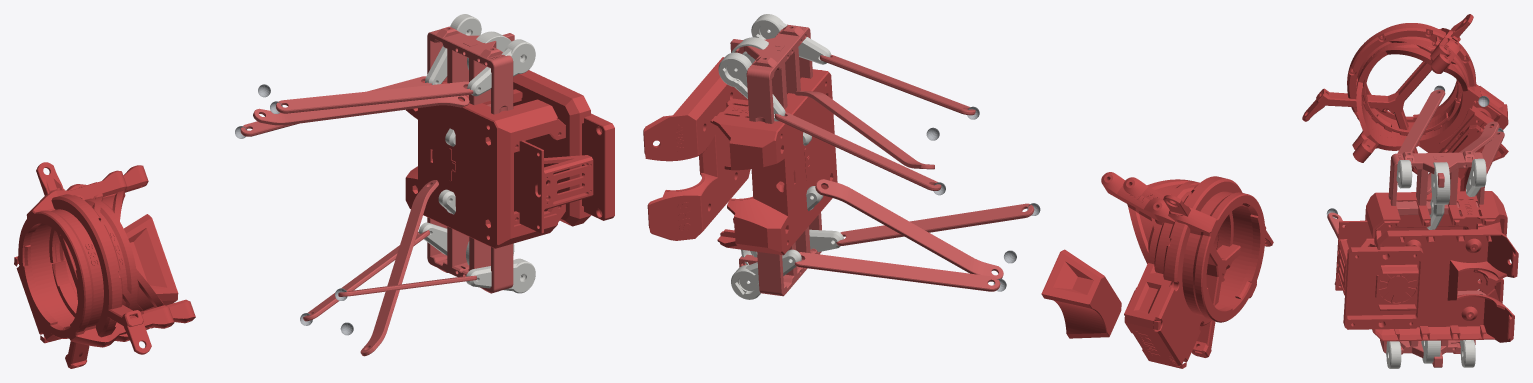
Rendered from ORS6_fused_v2.glb.
3 views of the same model, side by side, from view 1: azimuth 30°, elevation 25°; view 2: azimuth 150°, elevation 25°; view 3: azimuth 270°, elevation 25° (orthographic). The views are drawn at different scales.
Visible parts, largest first — view 1: world; view 2: world; view 3: world.
Part boxes in pixels (x1,y1,x2,y2): world: [14, 14, 614, 368]; world: [643, 14, 1273, 368]; world: [1302, 14, 1518, 368].
Size of the model in its own units: 515 by 231 by 213.
